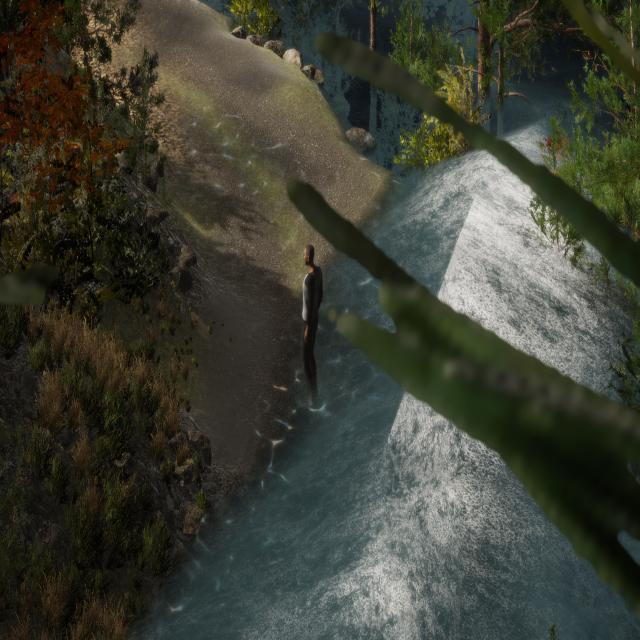Human: (296, 236, 326, 416)
